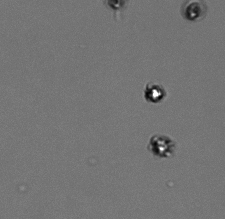Dead Cell: (151, 136, 171, 156), (185, 1, 203, 21), (108, 1, 124, 9)
Living Cell: (146, 84, 164, 102)
